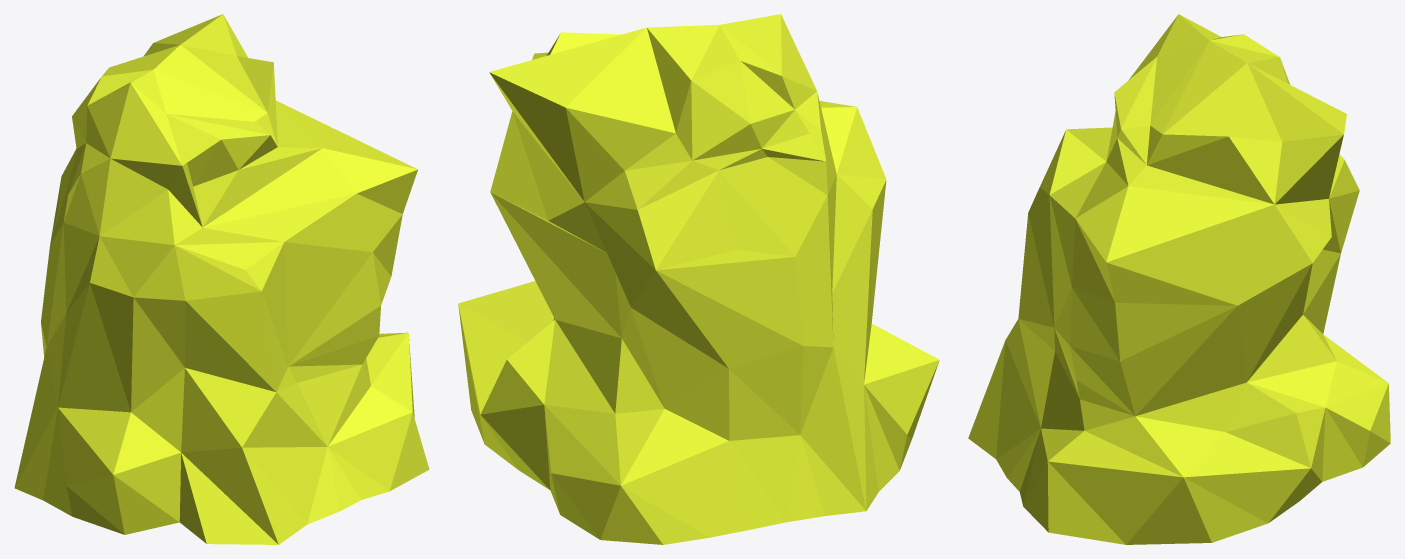
File: CoralRock_5.fbx
3 renders of one model, left to right at view 1: azimuth 30°, elevation 25°; view 2: azimuth 150°, elevation 25°; view 3: azimuth 270°, elevation 25°, orthographic. The views are drawn at different scales.
Visible parts, largest first — view 1: CoralRock_5; view 2: CoralRock_5; view 3: CoralRock_5.
Part boxes in pixels (x1,y1,x2,y2): CoralRock_5: (14,14,429,544); CoralRock_5: (458,14,939,544); CoralRock_5: (968,14,1390,544).
Bounding box in the file's own units: 6655 × 6727 × 6393.
